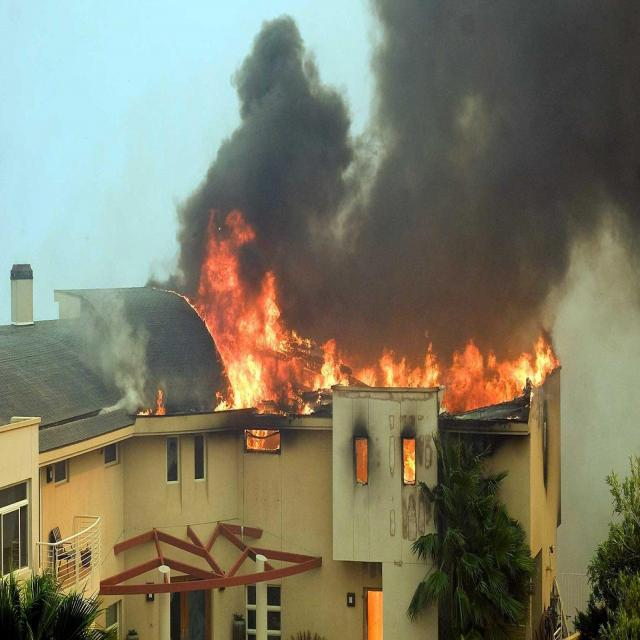fire: (189, 184, 567, 413)
